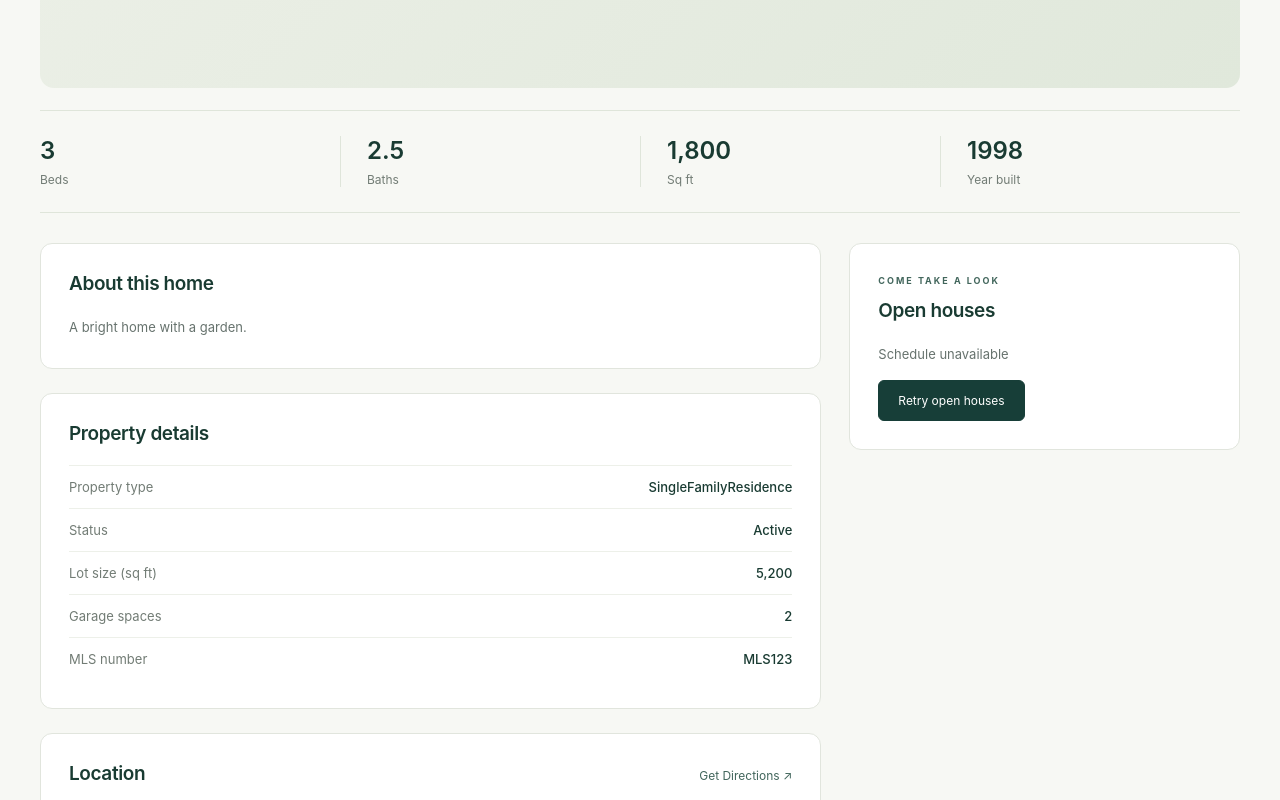
Test: an open house failure does not hide property details and retries only that request
(page scrolled)
Expected: the message shows "Schedule unavailable", [878, 346, 1009, 362]
Click the button "Retry open houses" at (952, 400), box [878, 380, 1025, 421]
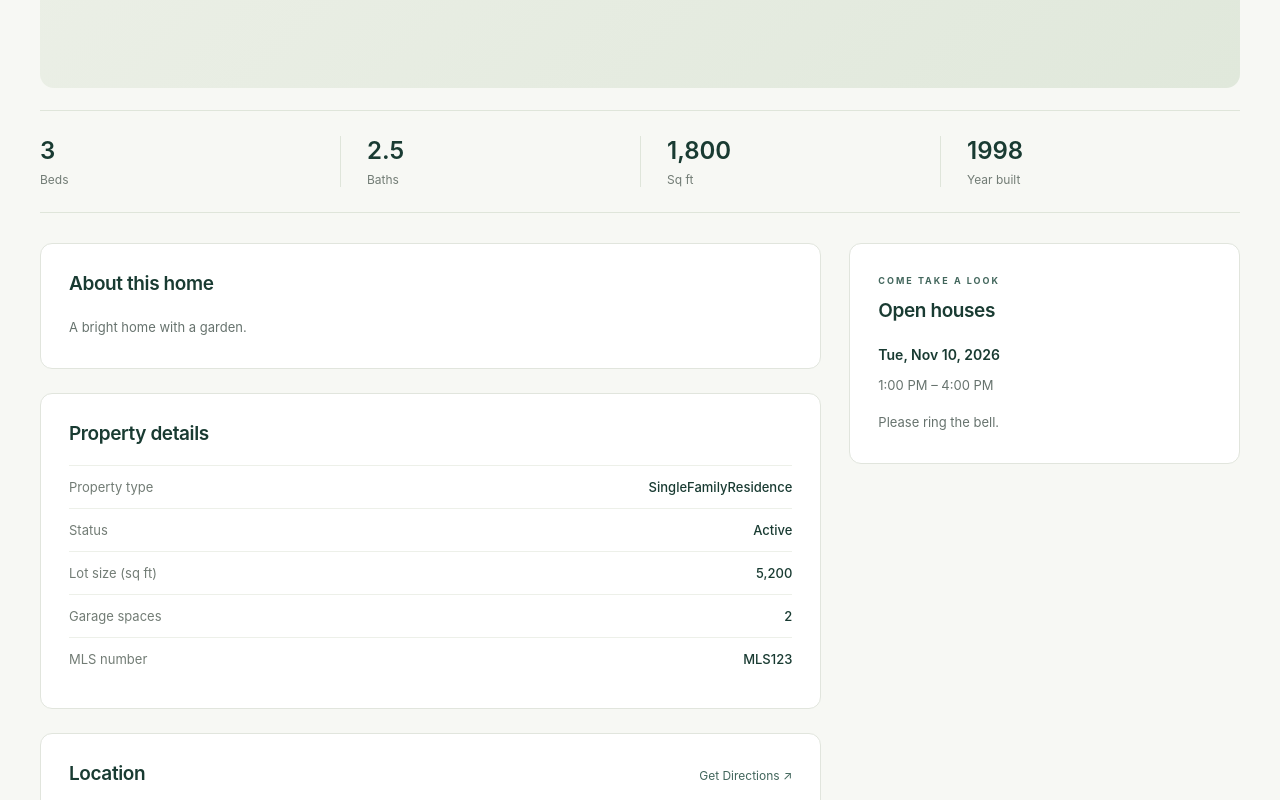
Now the text "Please ring the bell." is shown, box [878, 414, 999, 430]
